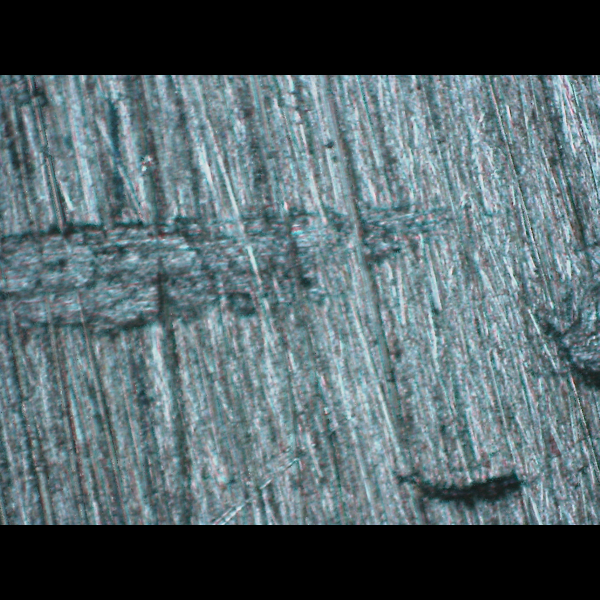d: (0, 193, 448, 335)
